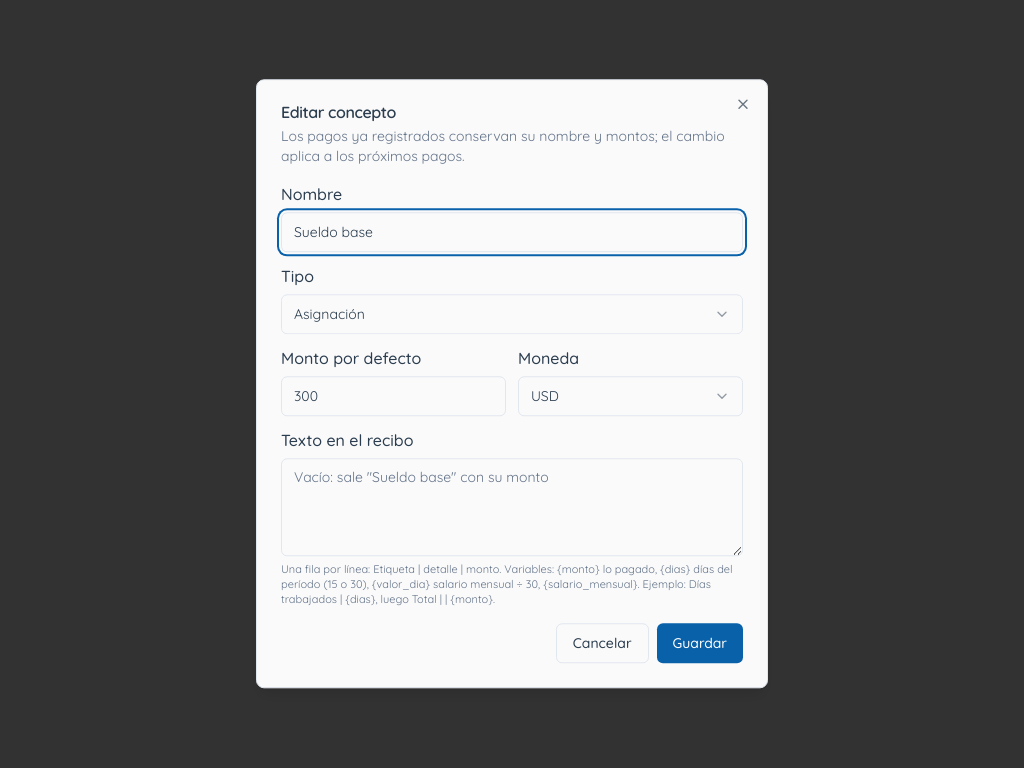
Test: PayrollConceptEditModal › doesn't save a negative amount
Replace the text in the number field labelled "Monto por defecto" with "-5" at (394, 396), box [281,376,506,416]
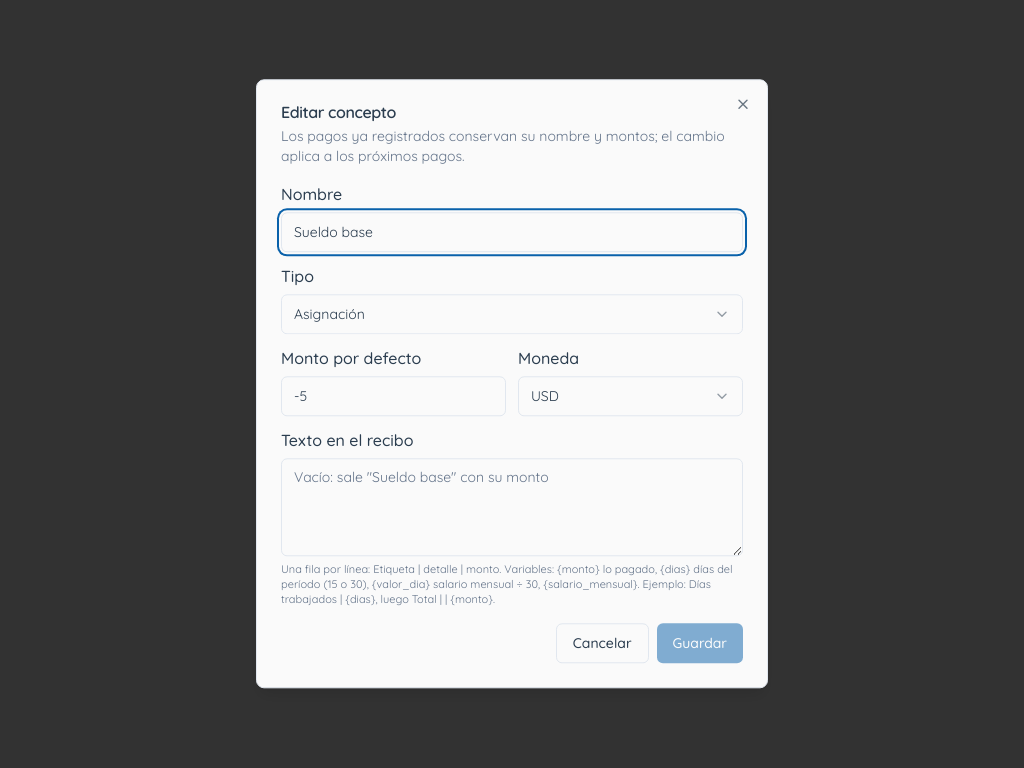
Expected: the button "Guardar" is disabled, [656,624,743,664]
